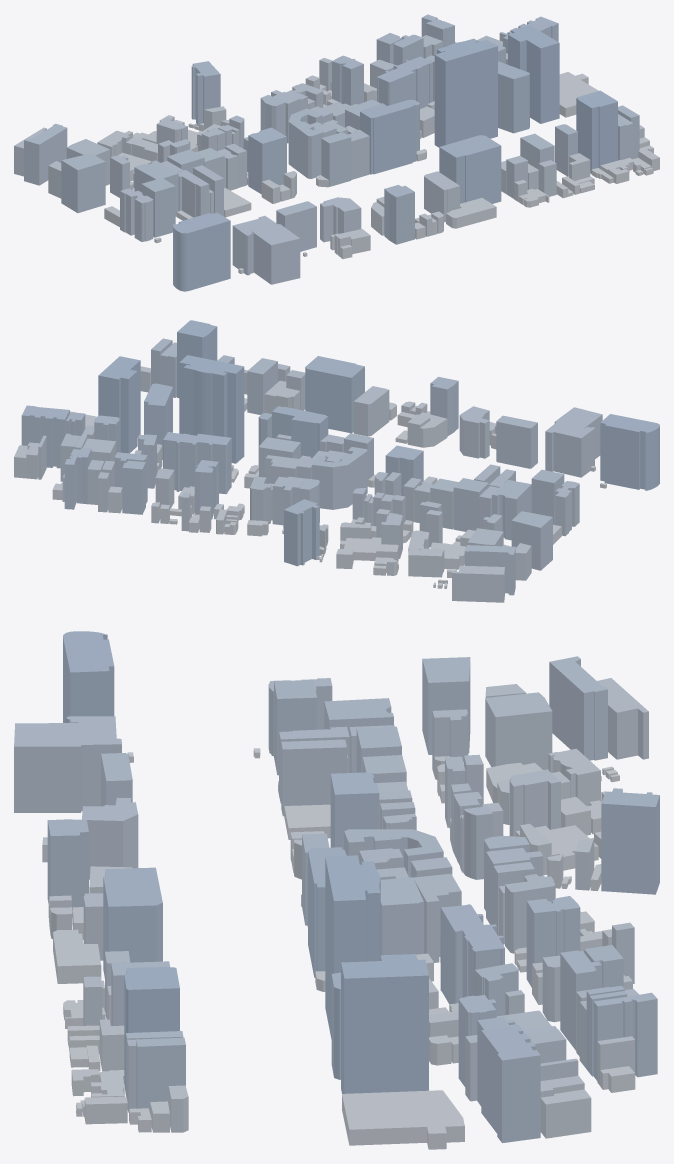
3 renders of one model, top to bottom at view 1: azimuth 30°, elevation 25°; view 2: azimuth 150°, elevation 25°; view 3: azimuth 270°, elevation 25°, orthographic. The views are drawn at different scales.
Bounding box in the file's own units: 526 × 87.31 × 338.
